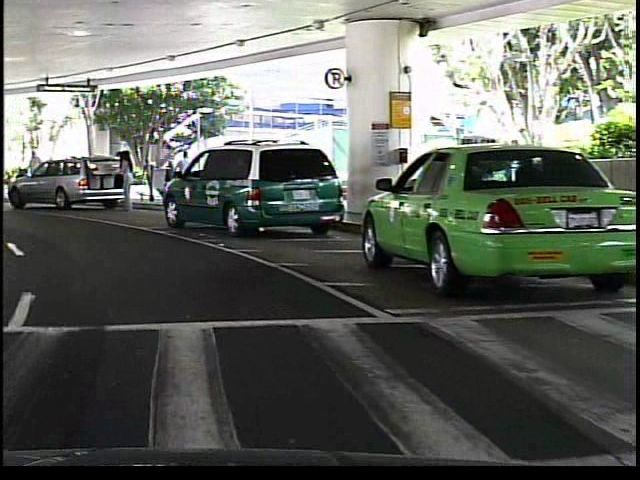person: (20, 147, 45, 199), (114, 147, 133, 215)
